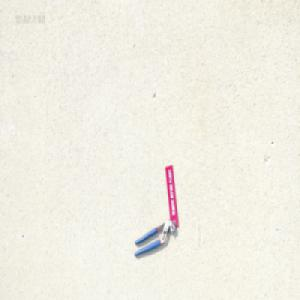Label: (165, 161, 178, 224)
Pliers: (133, 218, 175, 256)
